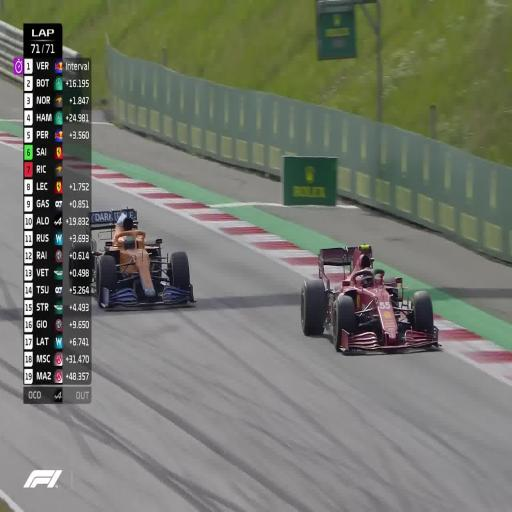f1_car: (301, 245, 439, 353), (69, 209, 194, 308)
